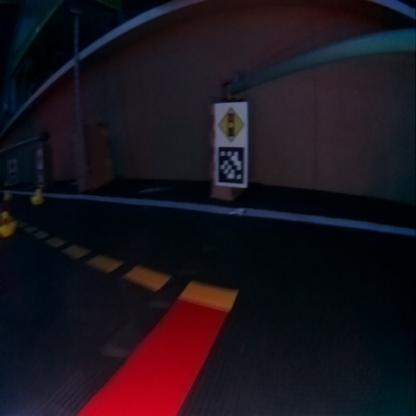Duckie: (1, 212, 16, 237), (30, 190, 42, 203), (5, 190, 9, 198)
QR code: (216, 147, 244, 185)
Signal sign: (218, 107, 244, 140)
